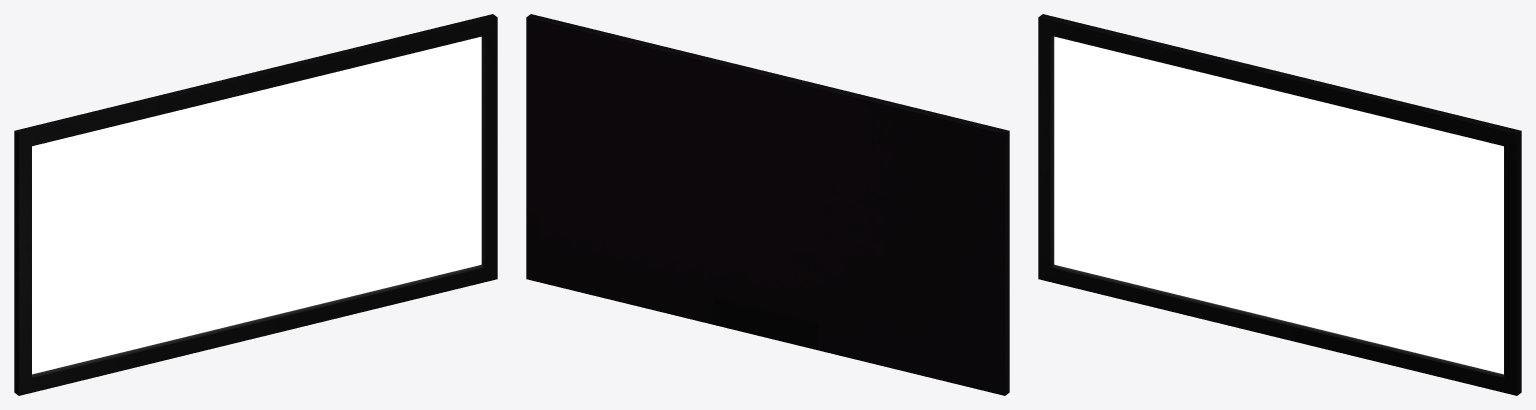
Rendered from monitor.glb.
3 renders of one model, left to right at view 1: azimuth 30°, elevation 25°; view 2: azimuth 150°, elevation 25°; view 3: azimuth 330°, elevation 25°, orthographic.
Parts seen in each view (by area): view 1: Monitor; view 2: Monitor; view 3: Monitor.
Part boxes in pixels (x1=…): Monitor: x1=14, y1=14, x2=497, y2=395; Monitor: x1=526, y1=14, x2=1009, y2=395; Monitor: x1=1038, y1=14, x2=1521, y2=395.
Bounding box in the file's own units: 2.39 × 1.25 × 0.0402.
Materials: 2 (2 with a texture image).
